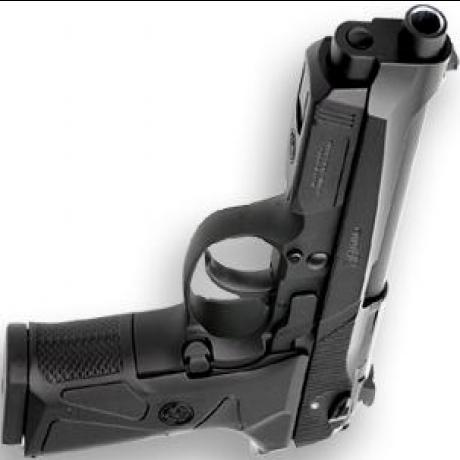weapon: (7, 6, 456, 444)
